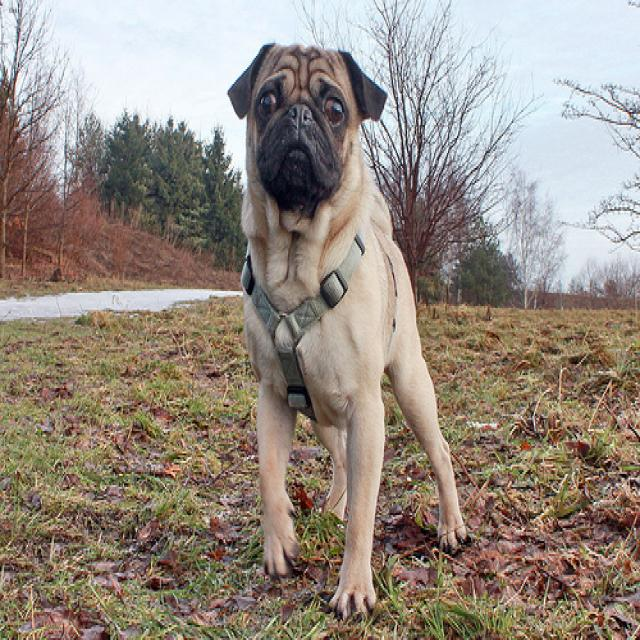dog-pug: (224, 26, 471, 625)
